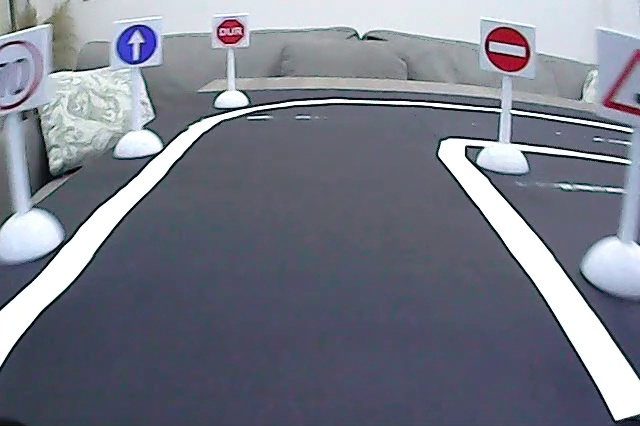do not enter: (481, 23, 533, 75)
stop sign: (214, 18, 247, 45)
